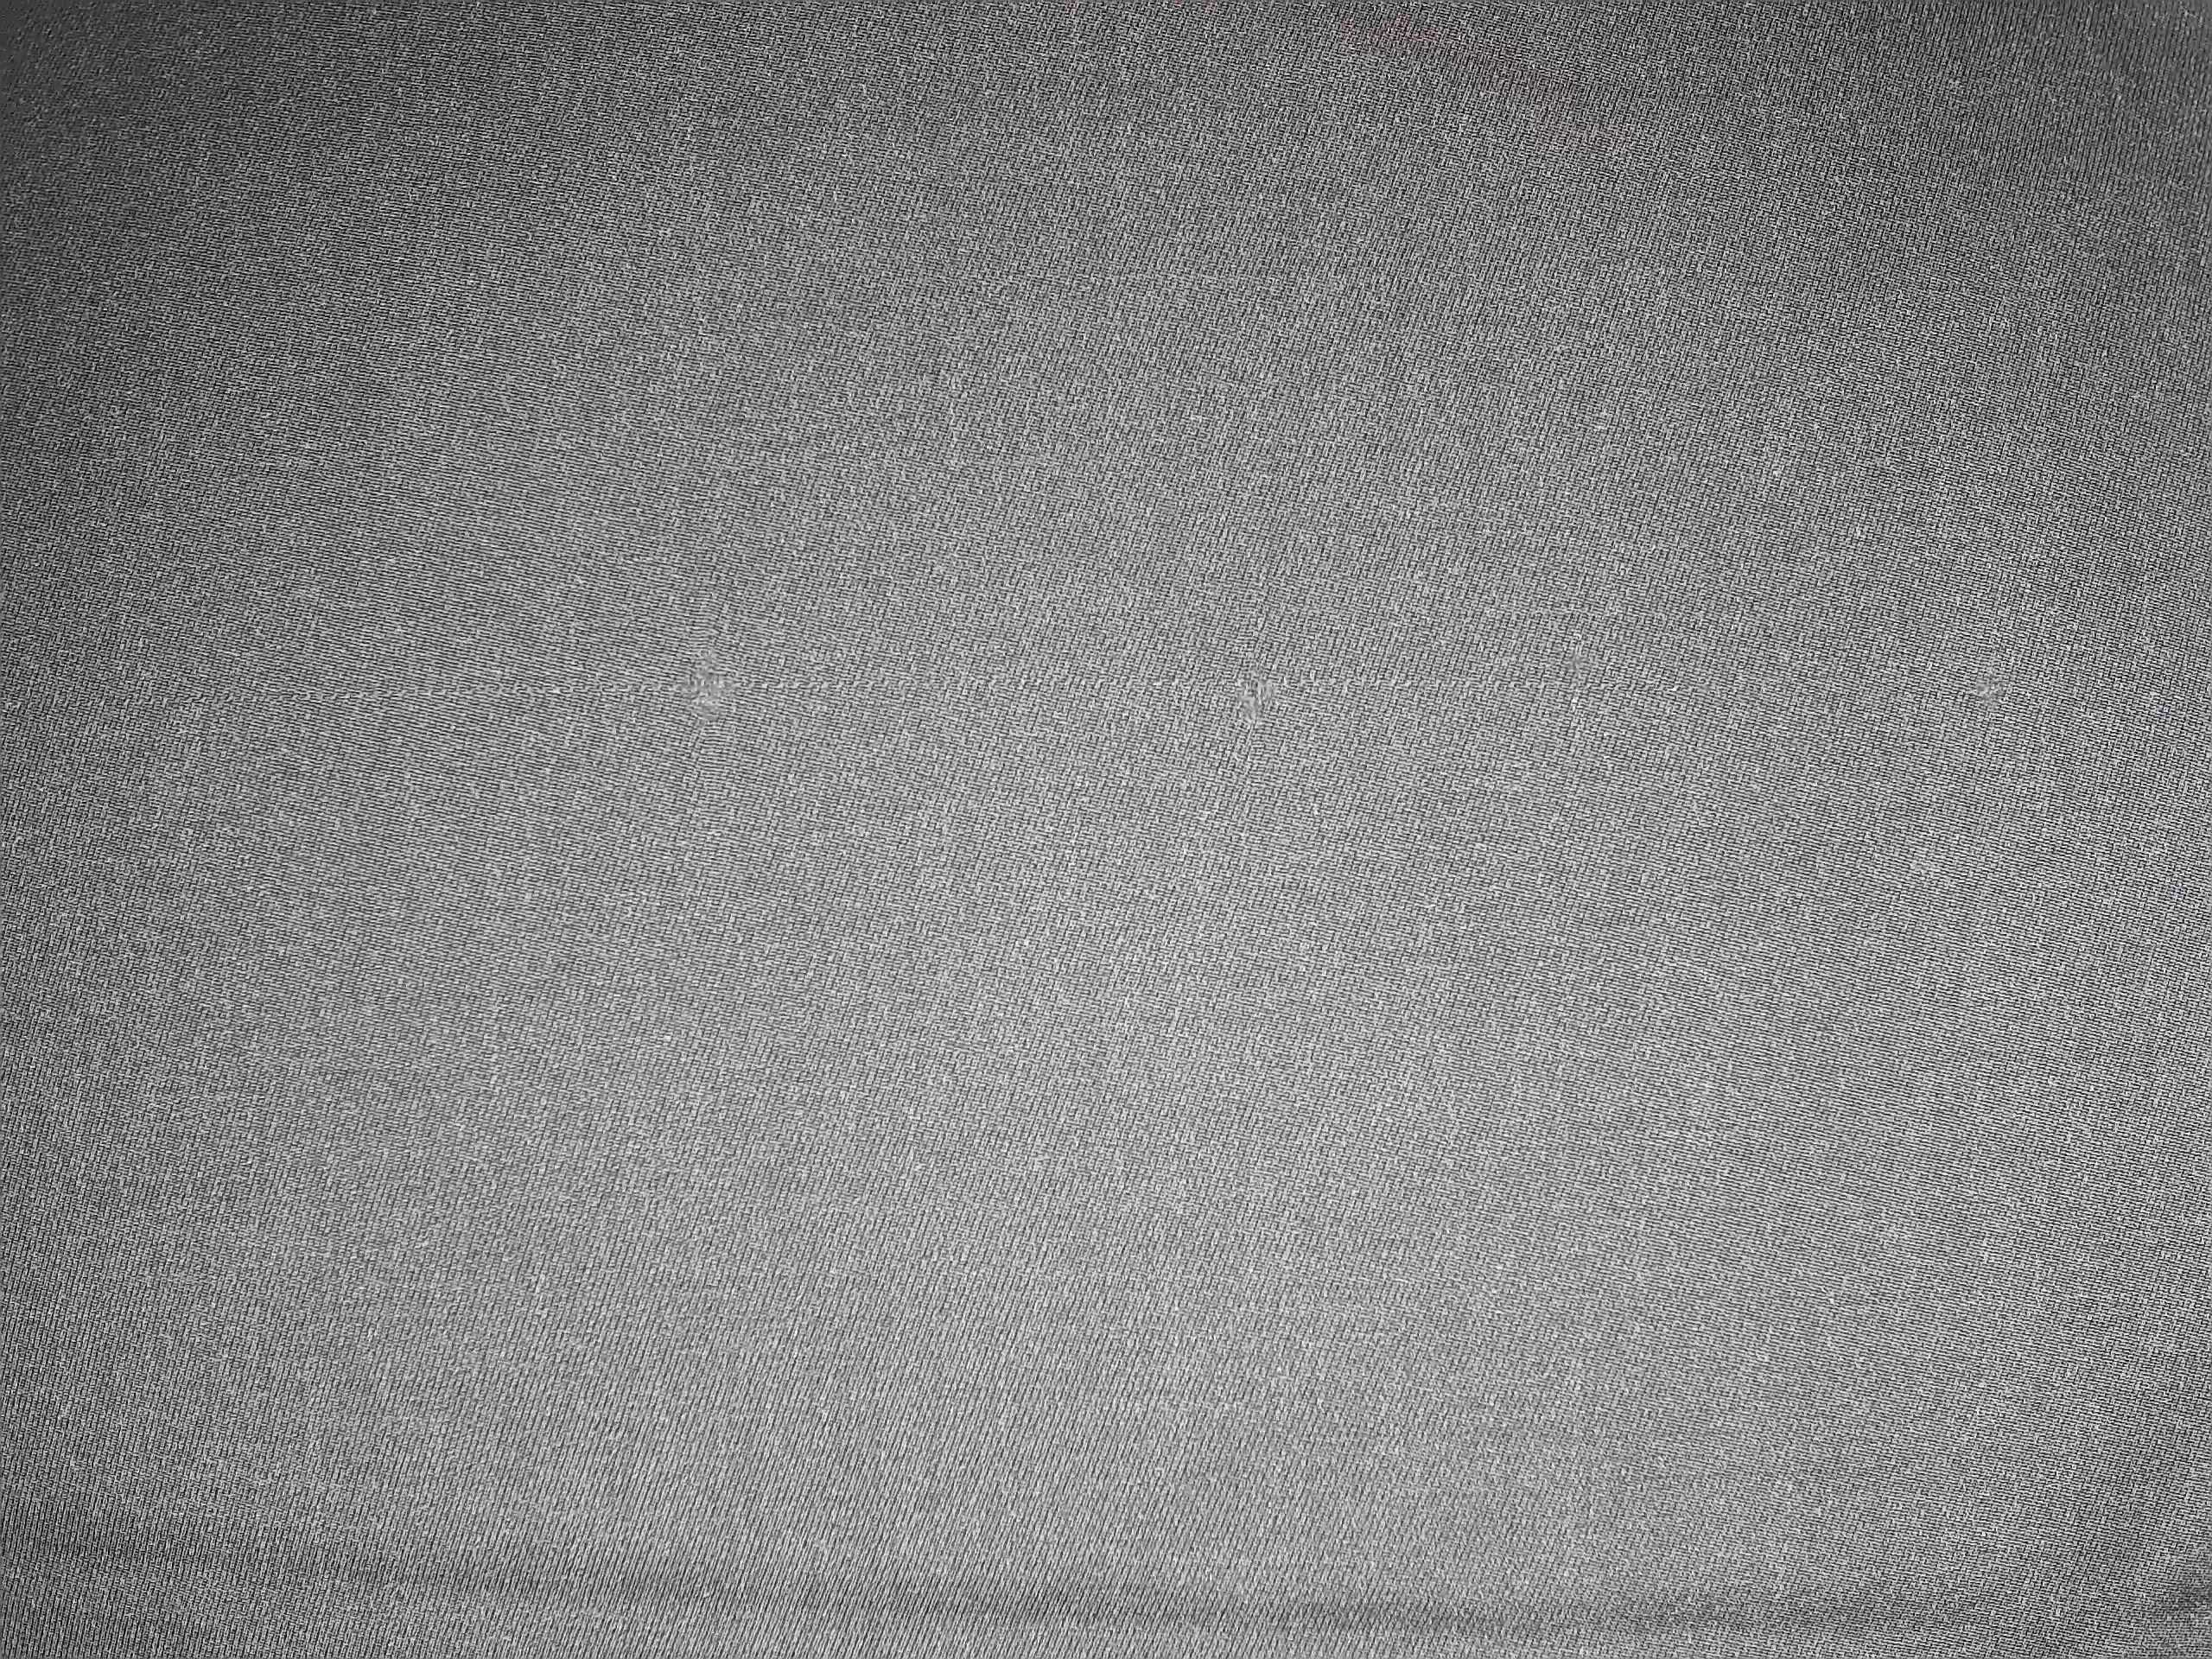knots: (643, 620, 786, 751), (1216, 650, 1299, 742), (1961, 662, 2019, 725)
